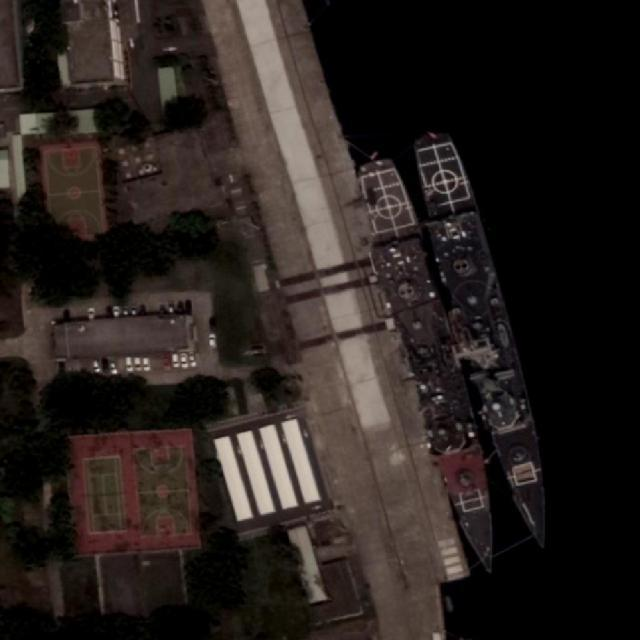Frigate: (405, 128, 570, 555), (353, 153, 515, 579)
